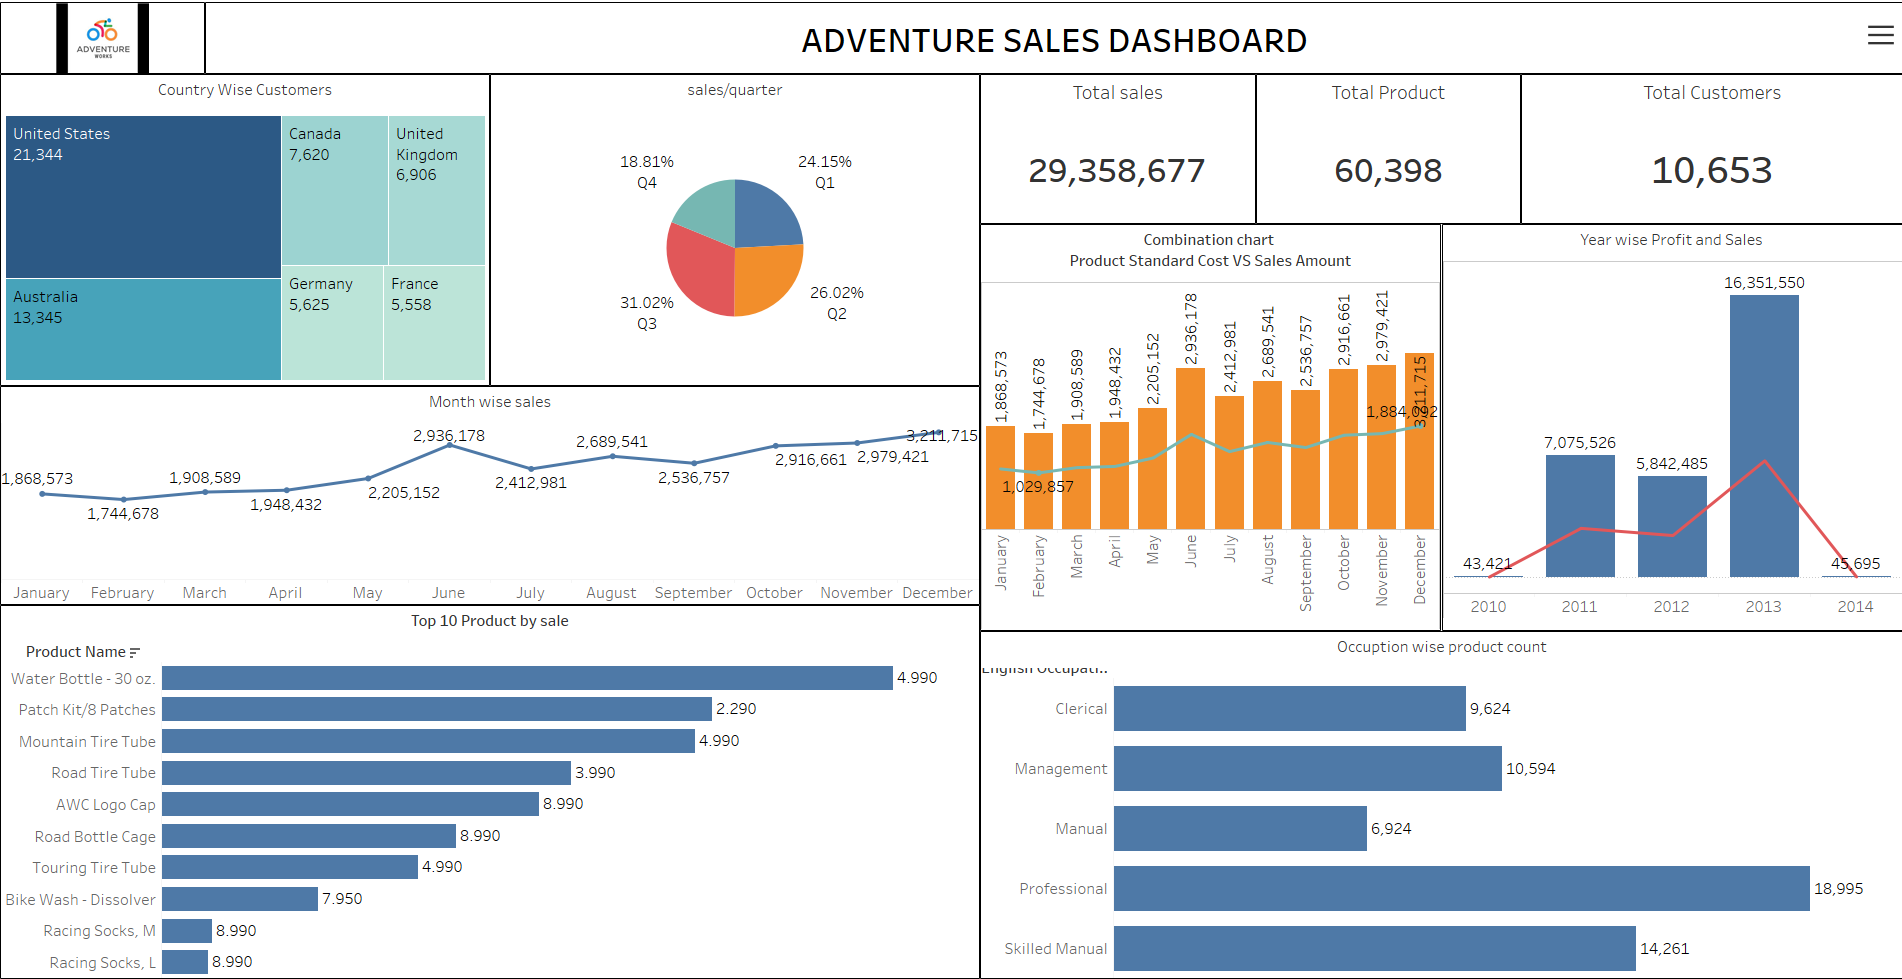

Layout of this report page (visuals, bound fields, positions):
{"tool":"tableau","page":{"name":"Dashboard 1","canvas":[1000,1000],"units":"permille","ordinal":0},"visuals":[{"type":"image","param":"Image/WORKS.jpeg","box":[4.9,10.7,106.6,72.1]},{"type":"text","box":[111.5,10.7,883.6,72.1]},{"type":"dashboard-object","box":[976.7,25.4,14.7,32.1]},{"type":"filter","title":"Region wise customers","param":"[federated.14jrchz1ceq9f619e94lu0lsl3zx].[none:Region:nk]","box":[900.5,73.6,98.9,81.7]},{"type":"worksheet","title":"Region wise customers","mark":"Automatic","box":[4.9,82.8,254.7,312.2]},{"type":"worksheet","title":"sales/quarter","mark":"Pie","box":[259.6,82.8,255,312.2]},{"type":"worksheet","title":"Total sales","mark":"Automatic","box":[514.6,82.8,143.3,149.7]},{"type":"worksheet","title":"Product Count ","mark":"Automatic","box":[657.9,82.8,137.8,149.7]},{"type":"worksheet","title":"total cust","mark":"Automatic","box":[795.7,82.8,199.4,149.7]},{"type":"worksheet","title":"combo chart","mark":"Bar","rows":["SalesAmount","ProductionCost"],"cols":["Year"],"box":[514.6,232.5,480.5,408]},{"type":"worksheet","title":"sales/month","mark":"Automatic","rows":["Sales Amount"],"cols":["OrderDate"],"box":[4.9,395,509.7,246.2]},{"type":"worksheet","title":"Occuptin/count cust","mark":"Automatic","rows":["Calculation_546061508563120132"],"cols":["EnglishOccupation"],"box":[514.6,640.5,240.2,348.8]},{"type":"worksheet","title":"sales&profit/year","mark":"Automatic","rows":["Sales Amount","Profit"],"cols":["Year"],"box":[754.8,640.5,240.3,348.8]},{"type":"worksheet","title":"Top 10","mark":"Automatic","rows":["Product Name"],"cols":["Product Name"],"box":[4.9,641.2,509.7,348.1]}]}

Visuals, with their boxes on the dashboard's canvas, which has no fixed pixel size, in thousandths of its width and height (x1, y1, x2, y2). These are canvas units, not pixel positions in the 1902x979 screenshot, which may show the page scaled, cropped or inside an application window:
image: BBox(5, 11, 112, 83)
text: BBox(112, 11, 995, 83)
dashboard-object: BBox(977, 25, 991, 58)
"Region wise customers" filter: BBox(900, 74, 999, 155)
"Region wise customers" worksheet: BBox(5, 83, 260, 395)
"sales/quarter" worksheet (Pie marks): BBox(260, 83, 515, 395)
"Total sales" worksheet: BBox(515, 83, 658, 232)
"Product Count " worksheet: BBox(658, 83, 796, 232)
"total cust" worksheet: BBox(796, 83, 995, 232)
"combo chart" worksheet (Bar marks): BBox(515, 232, 995, 640)
"sales/month" worksheet: BBox(5, 395, 515, 641)
"Occuptin/count cust" worksheet: BBox(515, 640, 755, 989)
"sales&profit/year" worksheet: BBox(755, 640, 995, 989)
"Top 10" worksheet: BBox(5, 641, 515, 989)
